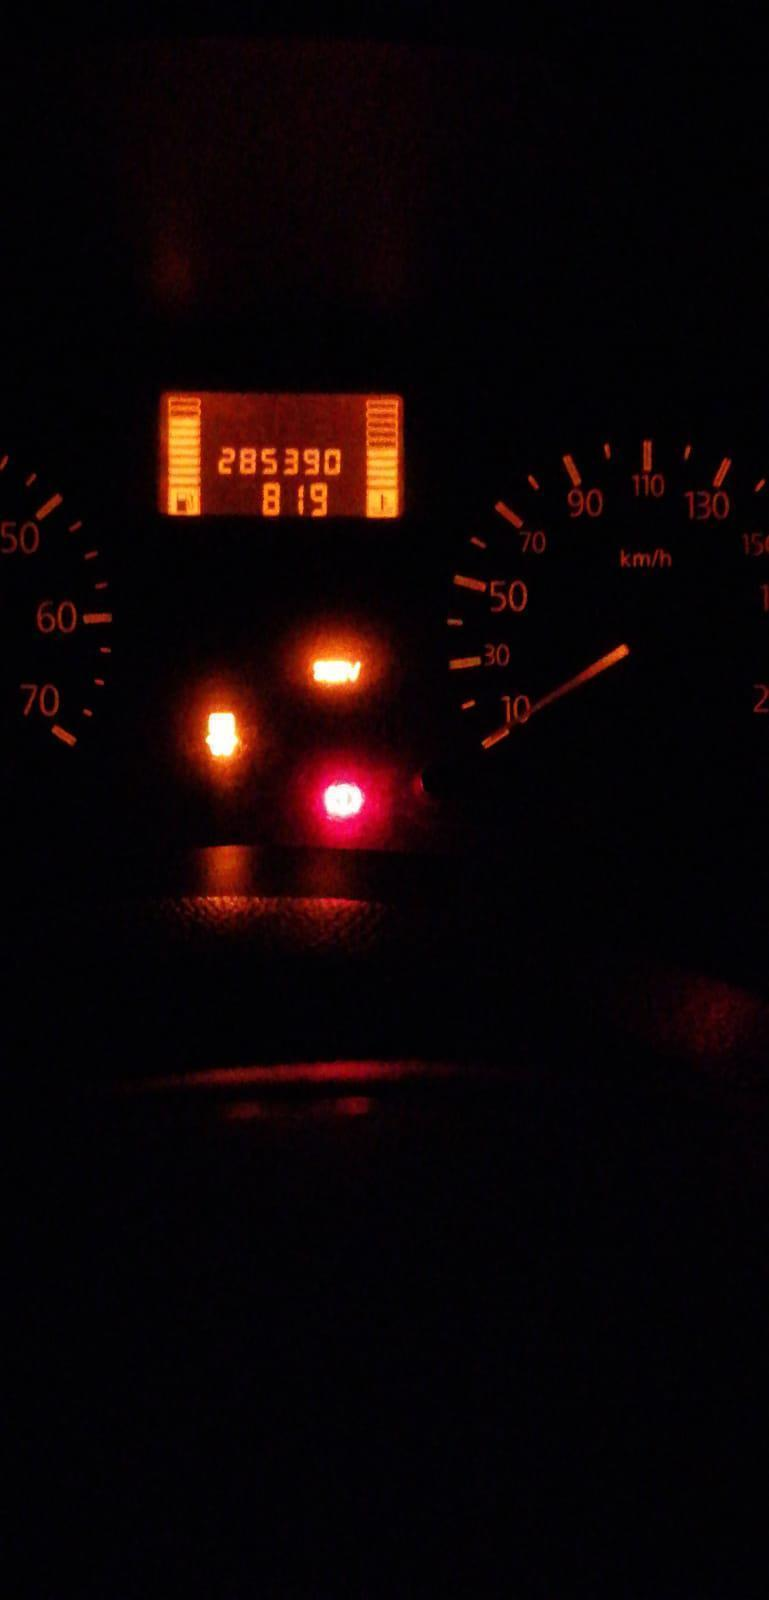0: (323, 447, 341, 476)
1: (296, 484, 304, 516)
2: (217, 446, 236, 476)
3: (281, 447, 299, 476)
5: (260, 447, 278, 476)
8: (261, 481, 280, 516), (238, 446, 257, 476)
9: (309, 481, 327, 517), (302, 447, 320, 476)
odometer: (155, 388, 407, 524)
